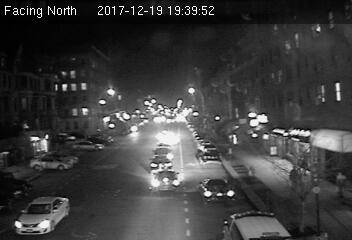car: (13, 195, 73, 234), (198, 177, 236, 203), (152, 169, 185, 192), (149, 156, 173, 173), (202, 149, 222, 165), (151, 146, 173, 159)
police: (219, 209, 288, 240)
